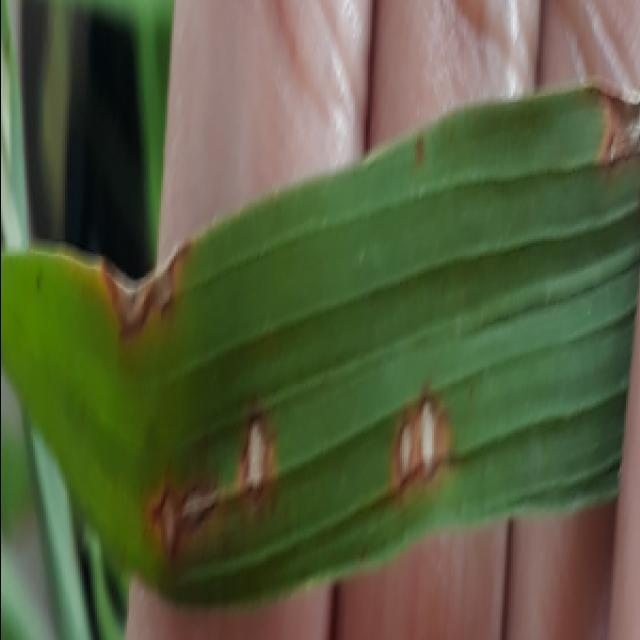Brown_Spot: (130, 408, 294, 562)
